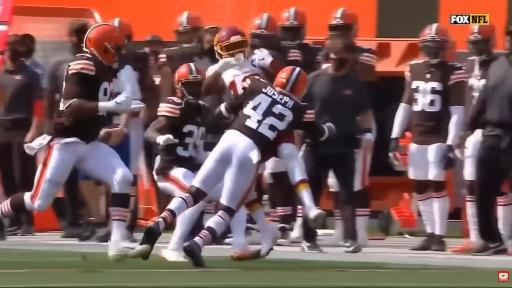Helmet: (84, 23, 125, 65), (420, 24, 450, 62), (214, 26, 249, 58), (274, 67, 307, 100), (175, 63, 205, 98), (280, 7, 306, 45), (250, 14, 278, 49), (467, 24, 495, 57), (328, 8, 358, 38), (390, 132, 411, 170), (175, 12, 203, 39), (110, 18, 133, 43)
Jersey: (224, 78, 323, 161), (403, 60, 467, 145), (54, 54, 115, 142), (157, 98, 210, 174), (159, 45, 216, 95), (222, 55, 265, 99), (465, 57, 497, 108), (280, 43, 317, 73), (127, 51, 153, 93), (352, 46, 377, 81)
Player: (156, 67, 335, 266), (0, 24, 143, 260), (391, 24, 467, 251), (111, 18, 159, 241), (146, 64, 227, 196), (203, 27, 283, 100), (203, 26, 283, 99), (159, 12, 214, 99), (452, 129, 482, 253), (263, 157, 296, 243), (279, 7, 317, 73), (354, 150, 371, 246), (249, 14, 279, 50), (353, 46, 377, 81)
